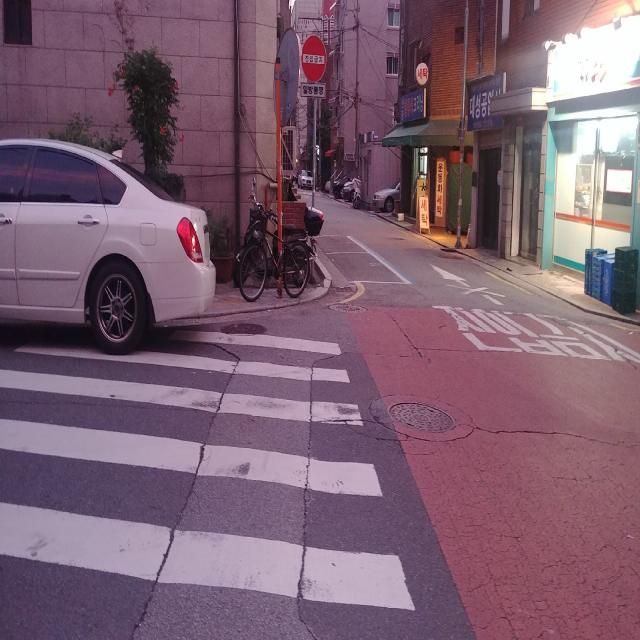횡단보도: (0, 322, 420, 618)
